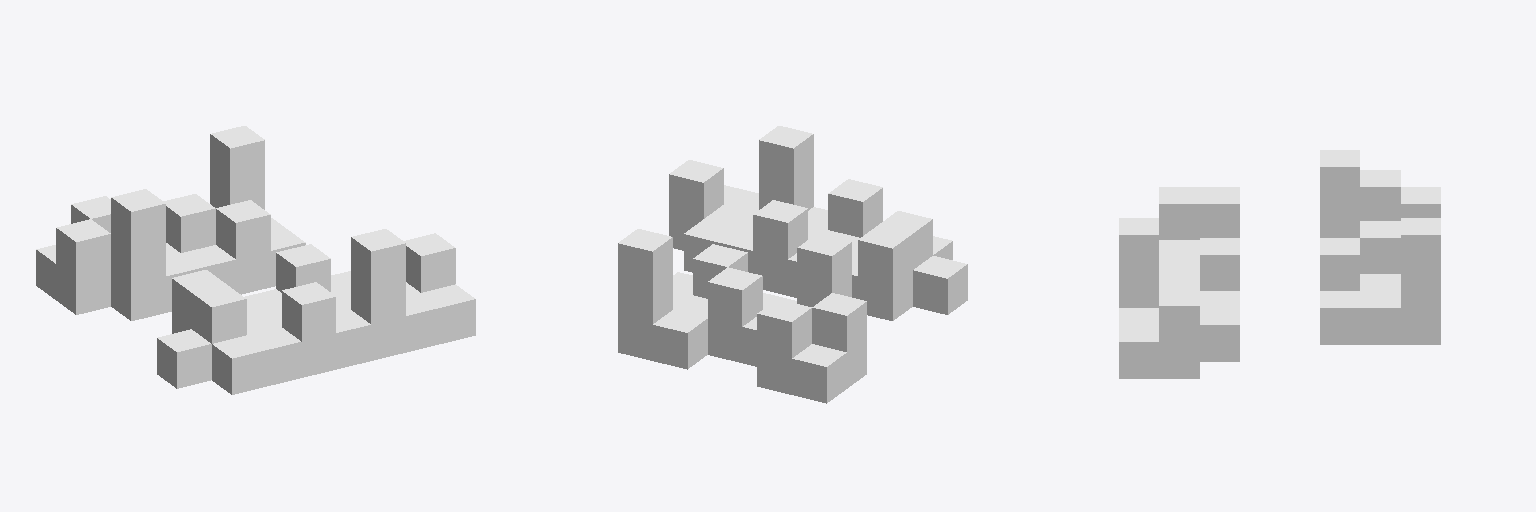
Rendered from grass-forest7.obj.
The picture shows the model from 3 angles: view 1: azimuth 30°, elevation 25°; view 2: azimuth 150°, elevation 25°; view 3: azimuth 270°, elevation 25°; orthographic projection.
Visible parts, largest first — view 1: object 1; view 2: object 1; view 3: object 1.
Boxes of the visible parts, x1,y1,x2,y2 form: object 1: [36, 126, 475, 394]; object 1: [618, 126, 967, 403]; object 1: [1119, 150, 1440, 378].
Bounding box in the file's own units: 0.8 × 0.3 × 0.8.